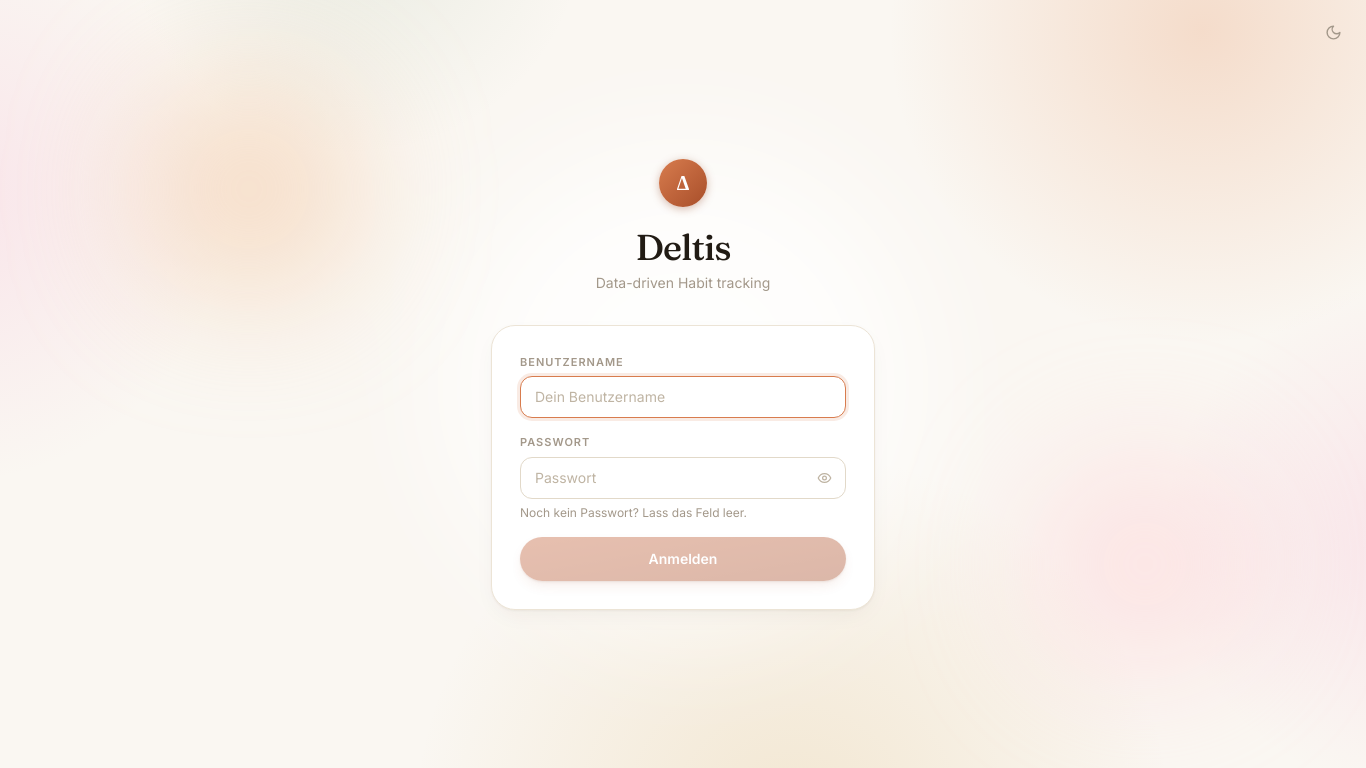
Scenario: Login page – error messages › shows "Bitte Passwort eingeben" for PASSWORD_REQUIRED code
Step 1. Type "alice" into the field with placeholder "Dein Benutzername" → point(683, 397), box [520,376,846,418]
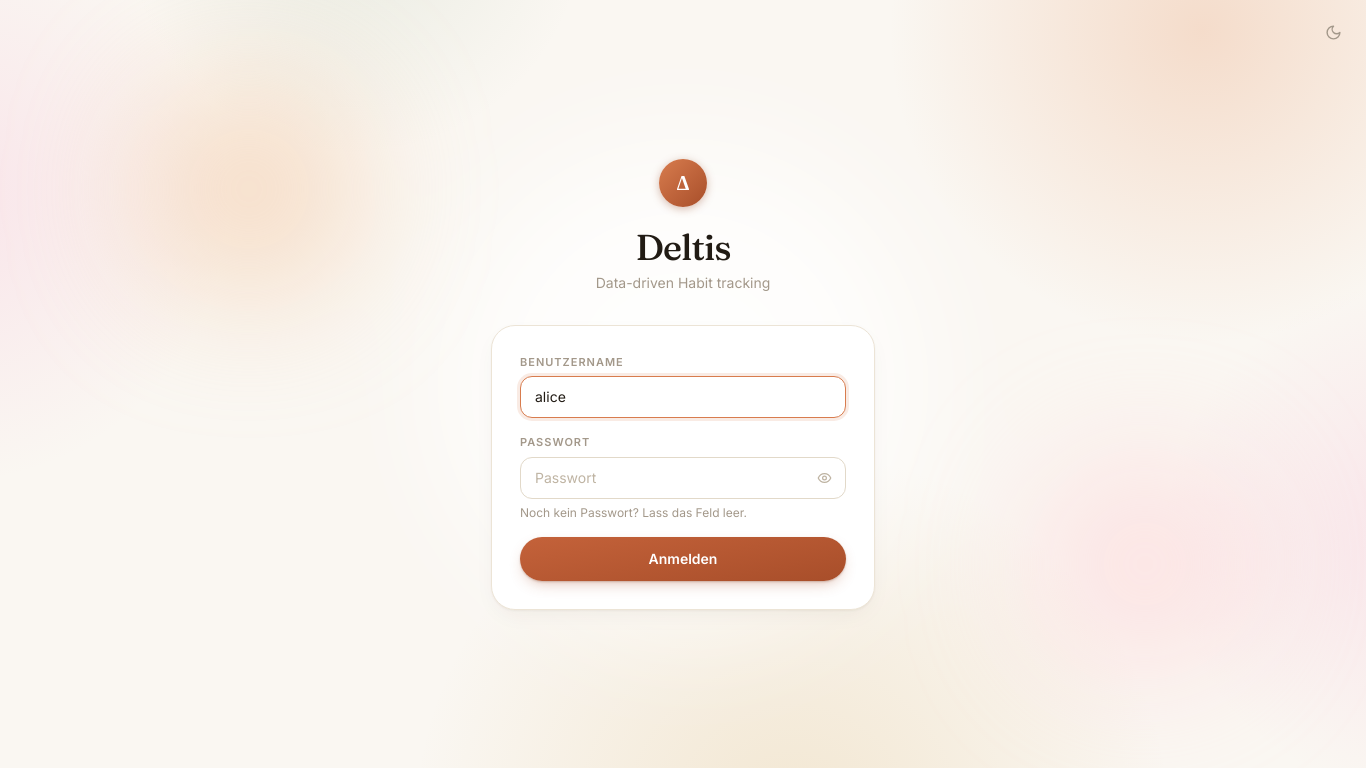
Step 2. Click the button "Anmelden" → point(683, 558), box [520,536,846,580]
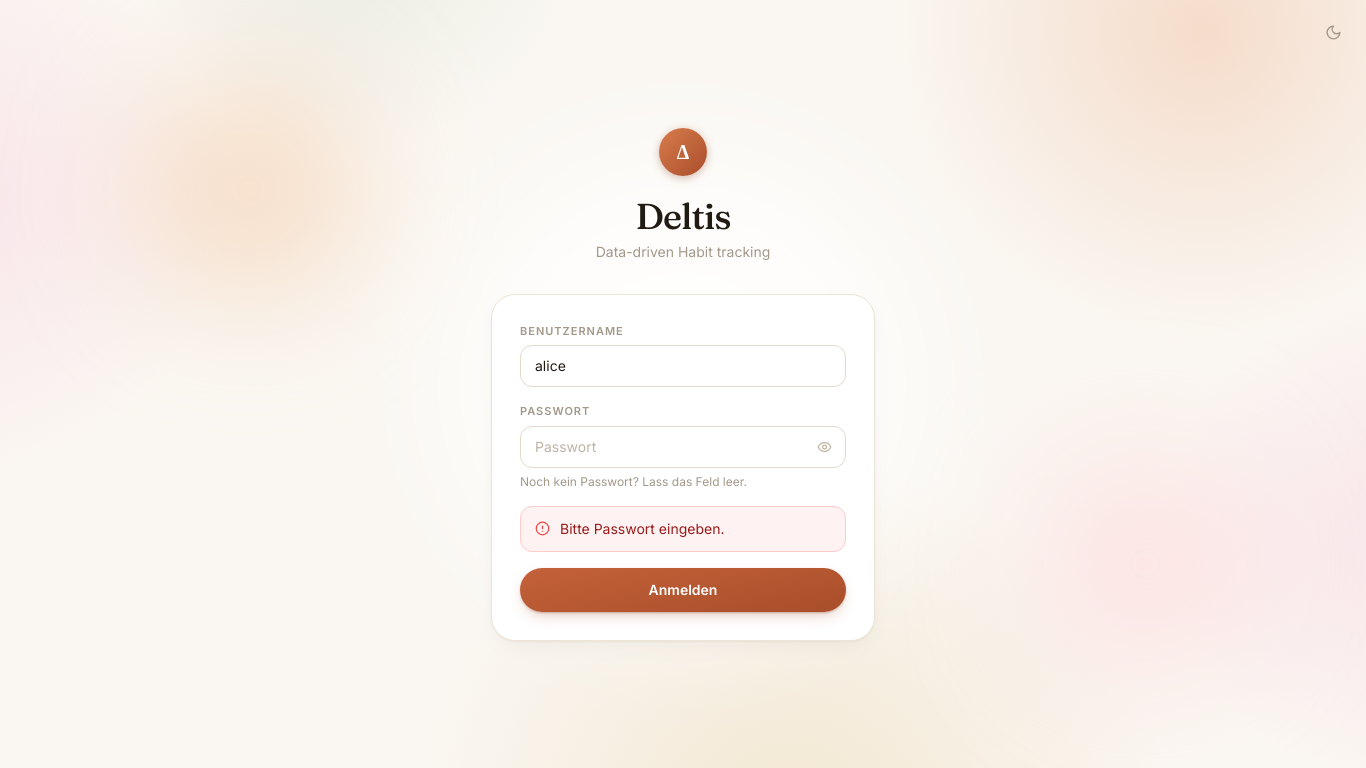
Now the text "Bitte Passwort eingeben." is shown, box [560,518,724,538]
